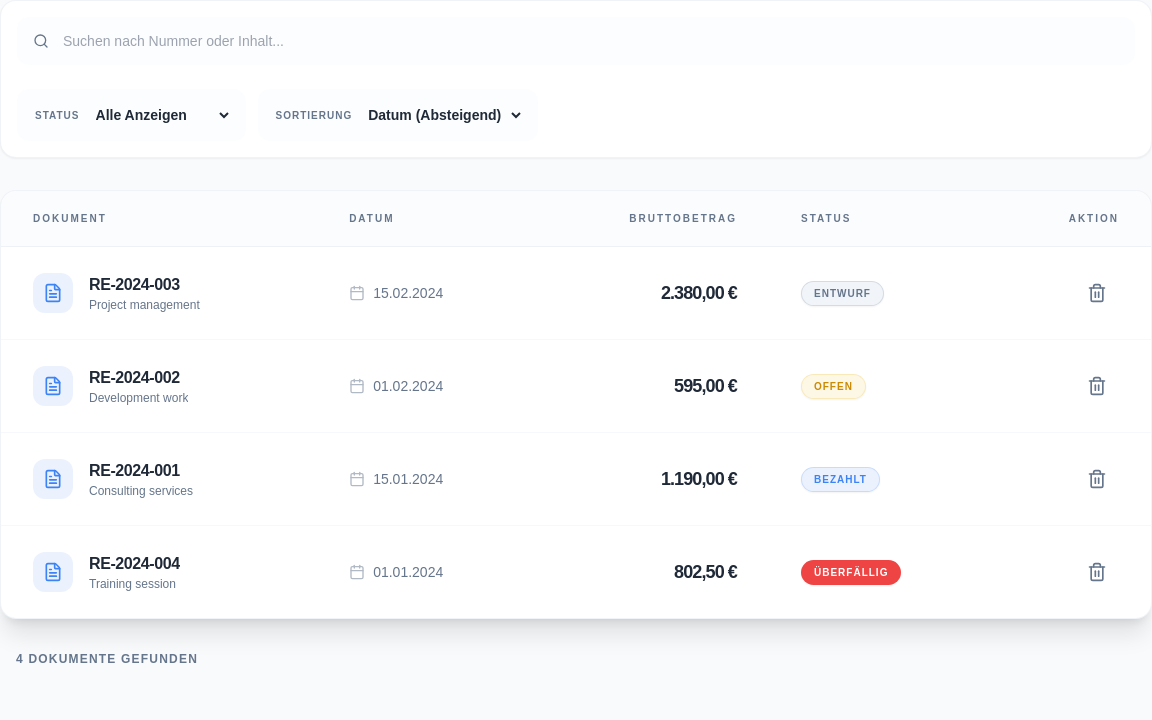
Test: InvoiceList › deletion › should show confirmation before deletion
Click the button named "Rechnung RE-2024-002 löschen" at x=1097, y=386, box [1075,364,1119,408]
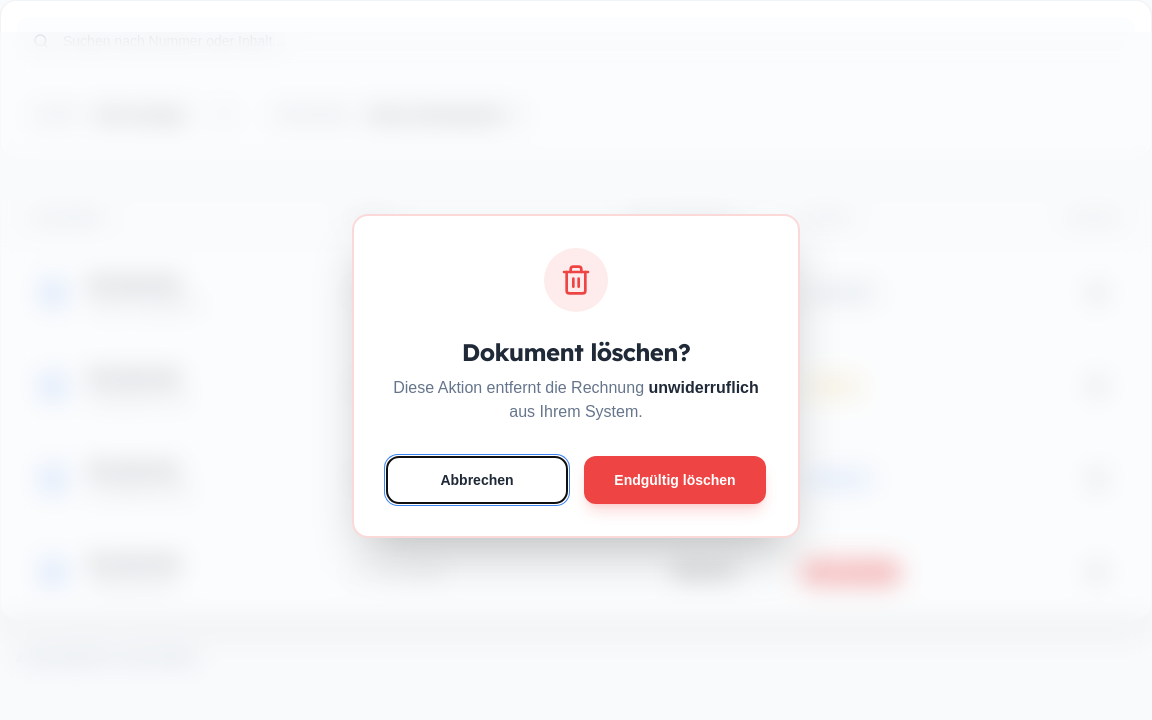
Check: the button "Endgültig löschen" is shown, box [584,456,766,504]
